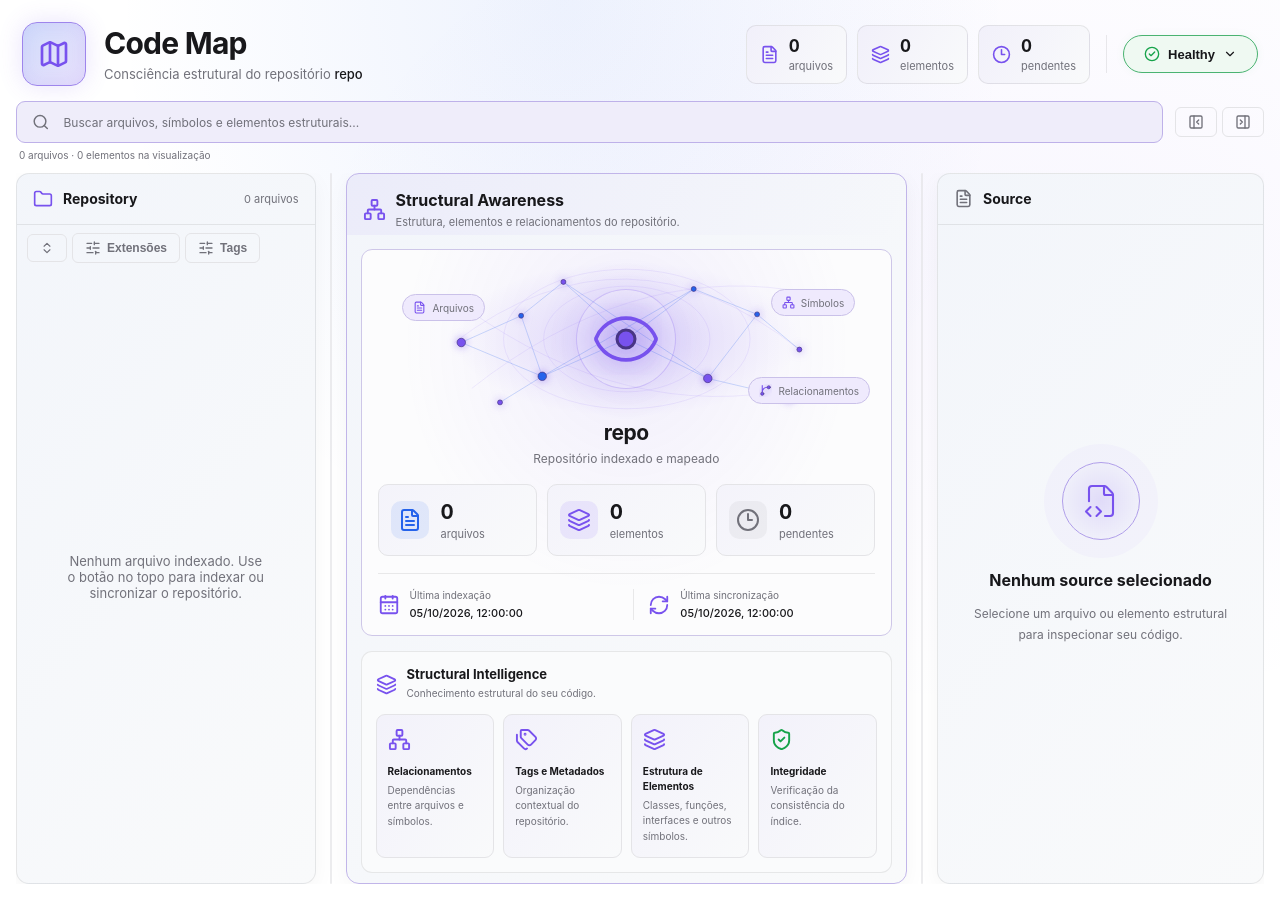
it: does not report Healthy after a failed or unknown integrity result: {"success":true,"data":{"status":"unknown","filesChecked":2,"hashesChecked":2,"hashesMismatc
The image size is (1280, 900).
Click the button with aria-label "Code Map Health: Healthy" at (1190, 54), box left=1123, top=35, right=1258, bottom=73
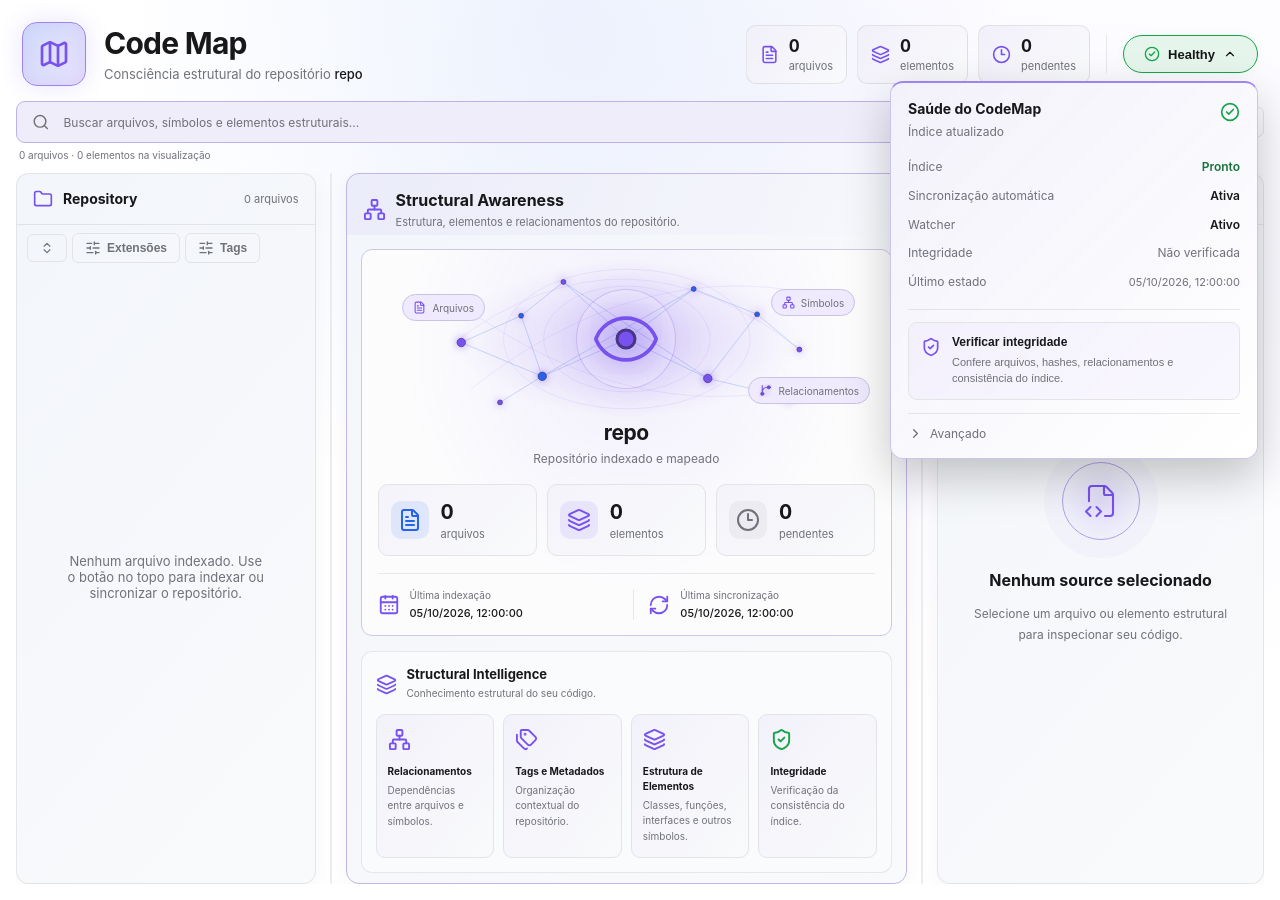
Click the button "Verificar integridade" at (1074, 361), box left=908, top=322, right=1240, bottom=400
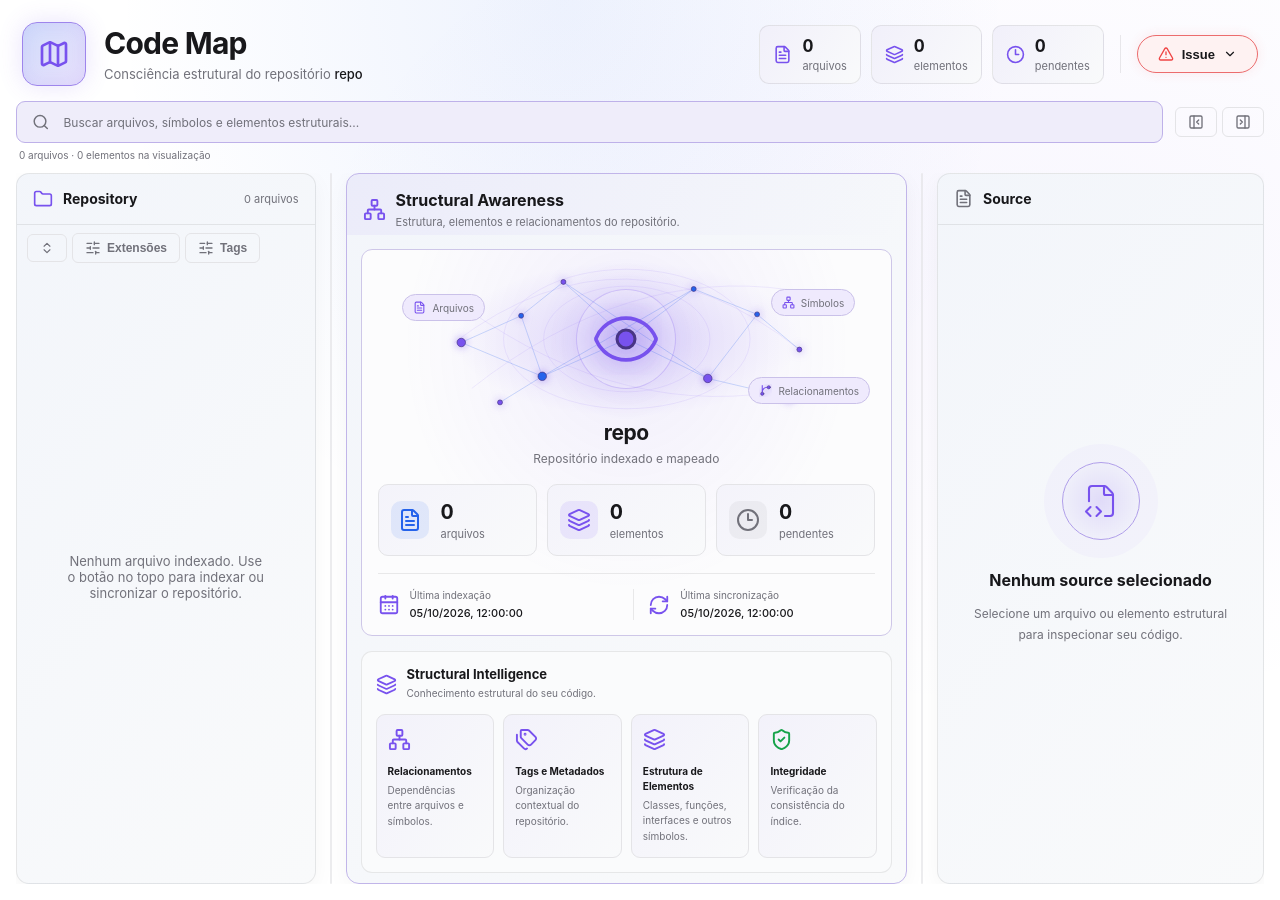
Click the button with aria-label "Code Map Health: Issue" at (1197, 54), box left=1137, top=35, right=1258, bottom=73
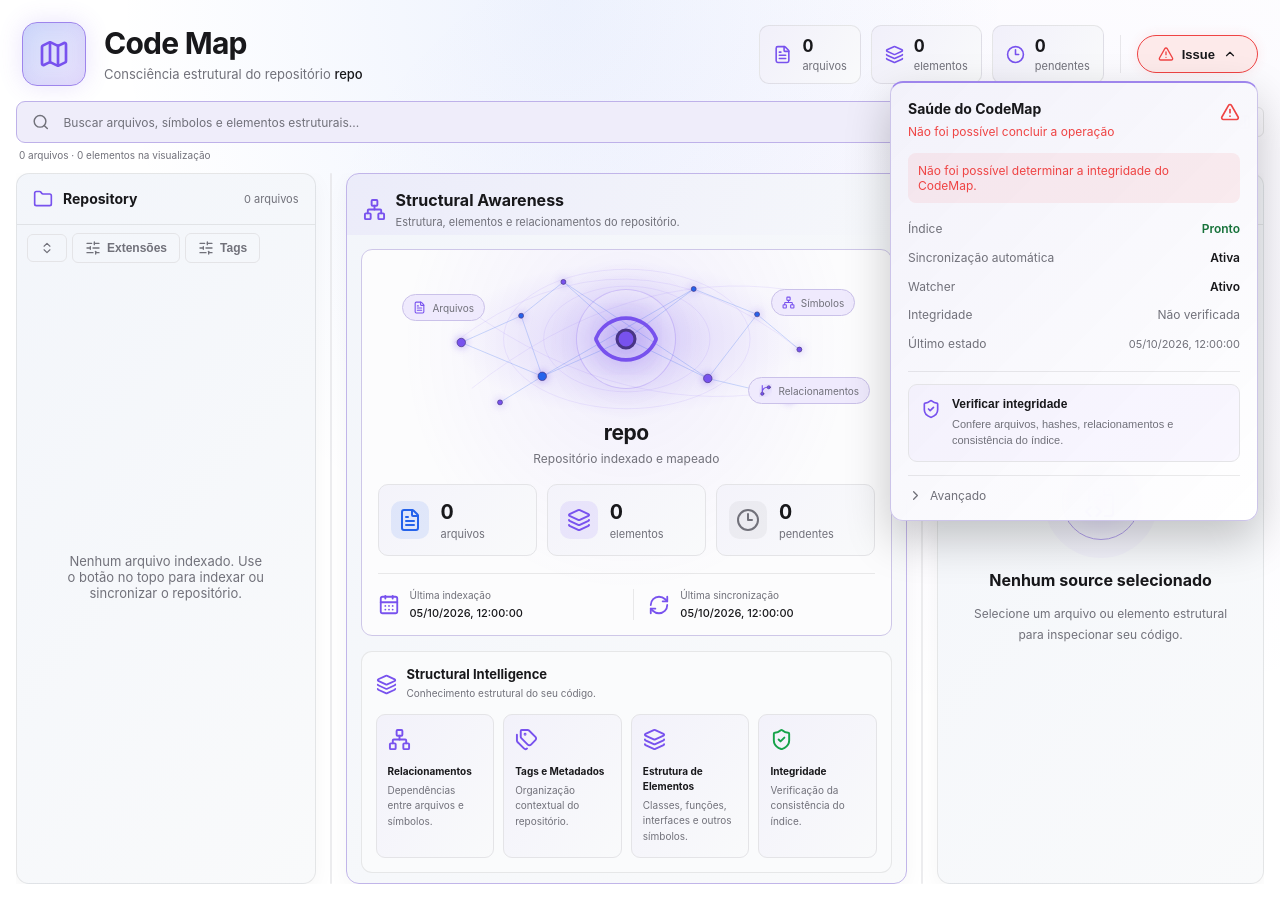
Now the message "Não foi possível determinar a integridade do CodeMap." is shown, box left=908, top=153, right=1240, bottom=203
